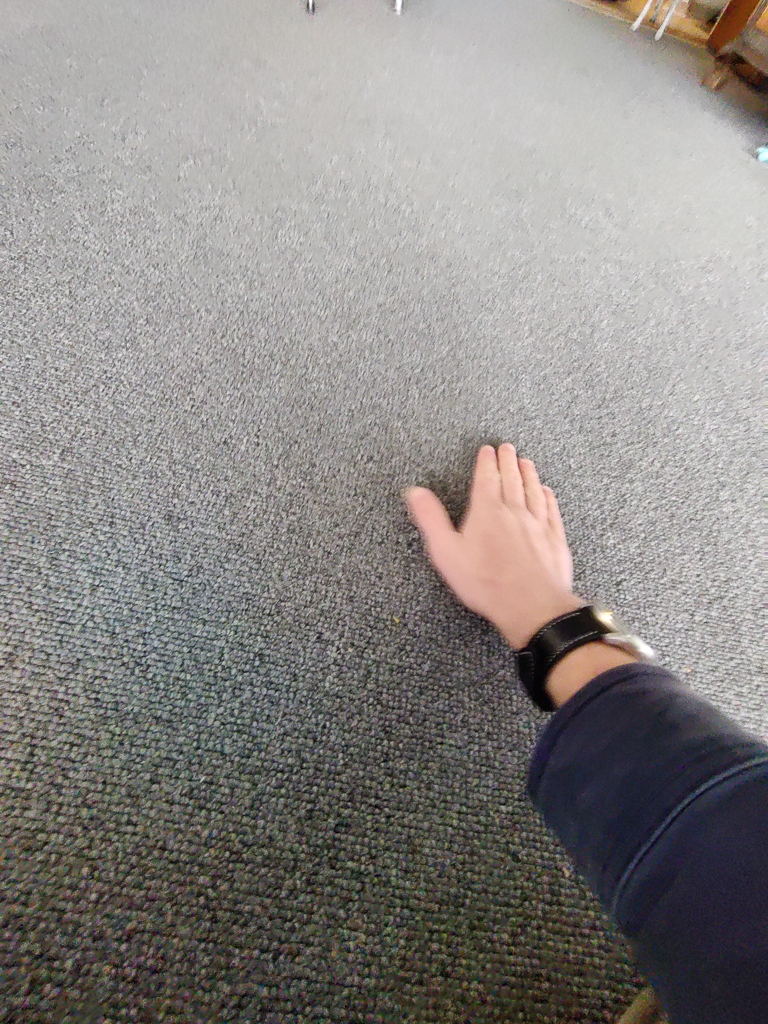Dog: (617, 0, 694, 58)
Humanoid: (372, 424, 768, 1024)
